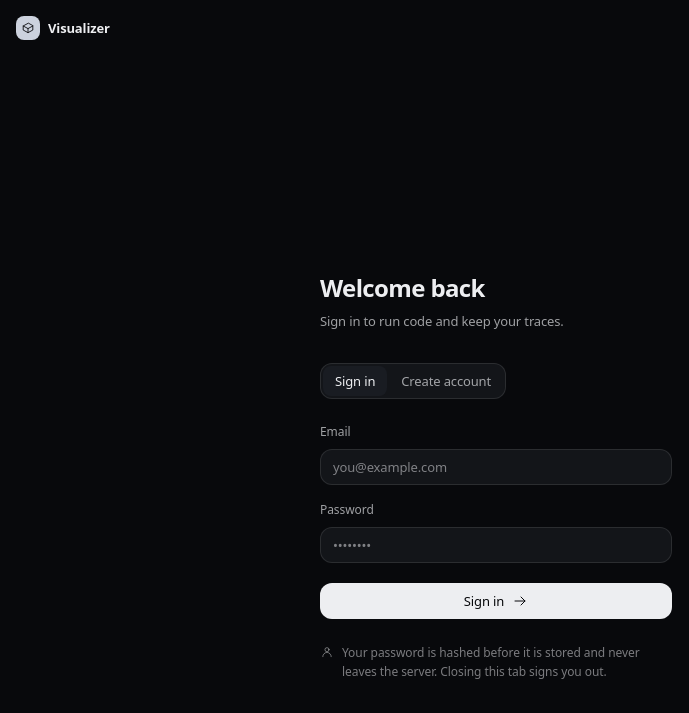
Test: sign in › shows the server's reason and stays put when credentials are wrong
Type "ada@example.com" into the field labelled "Email".
click(496, 467); type("ada@example.com")  # box [320,449,672,485]
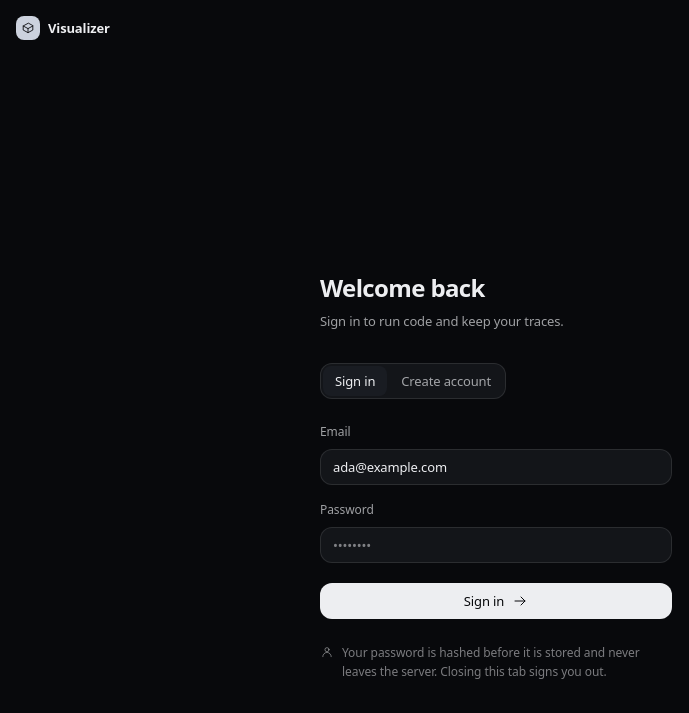
Type "wrong-password" into the password field labelled "Password".
click(496, 545); type("wrong-password")  # box [320,527,672,563]
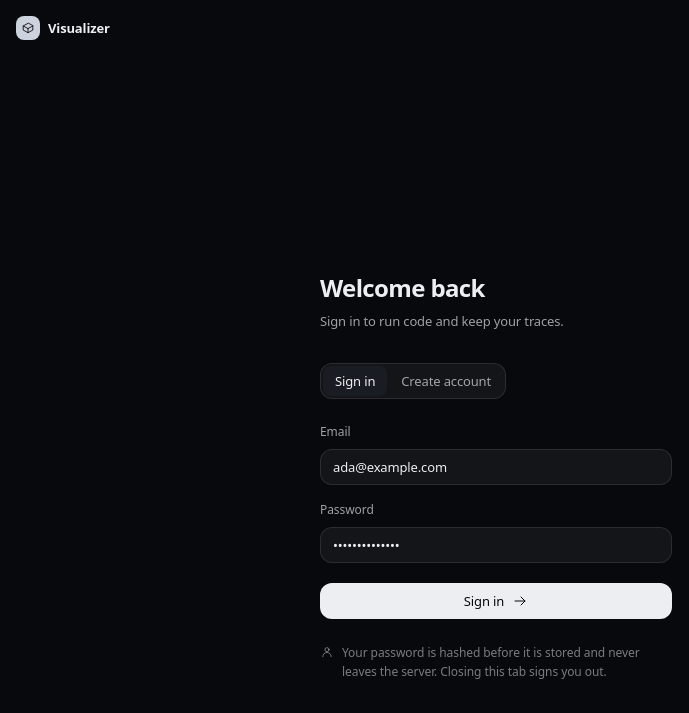
Click the button "Sign in" below "Email".
click(496, 601)  # box [320,583,672,619]
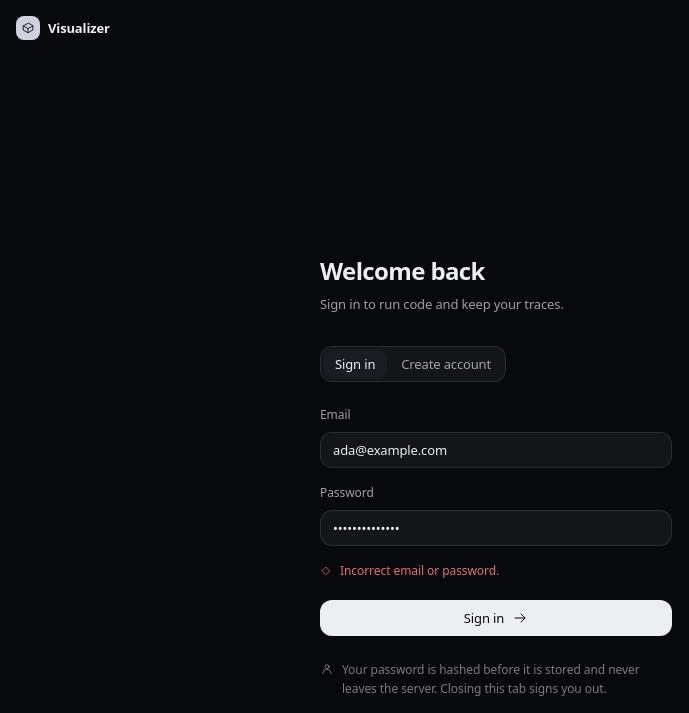
Now the message reads "Incorrect email or password.", box [340,562,499,579]
